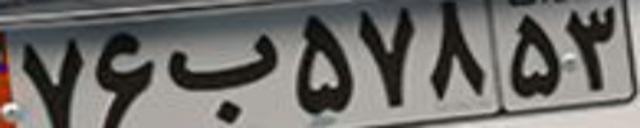3: (567, 4, 619, 90)
5: (295, 13, 353, 112), (508, 11, 561, 98)
6: (96, 30, 155, 127)
7: (358, 6, 417, 108), (19, 38, 79, 127)
8: (430, 0, 486, 98)
be: (168, 31, 284, 123)
